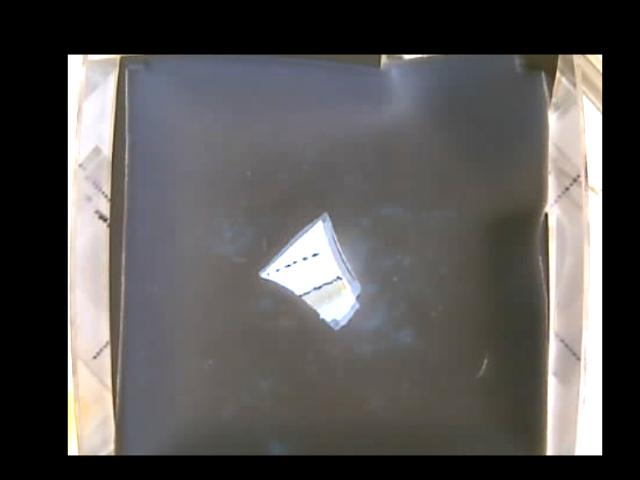China: (261, 214, 360, 329)
